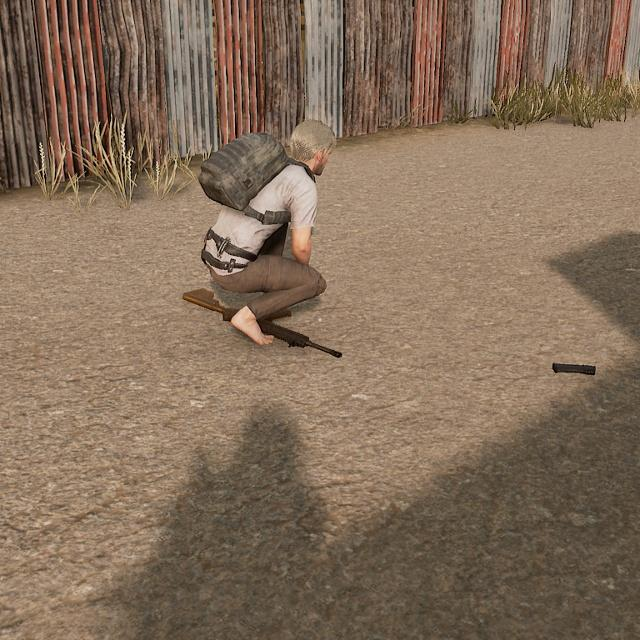head: (285, 117, 339, 176)
people: (196, 114, 351, 361)
